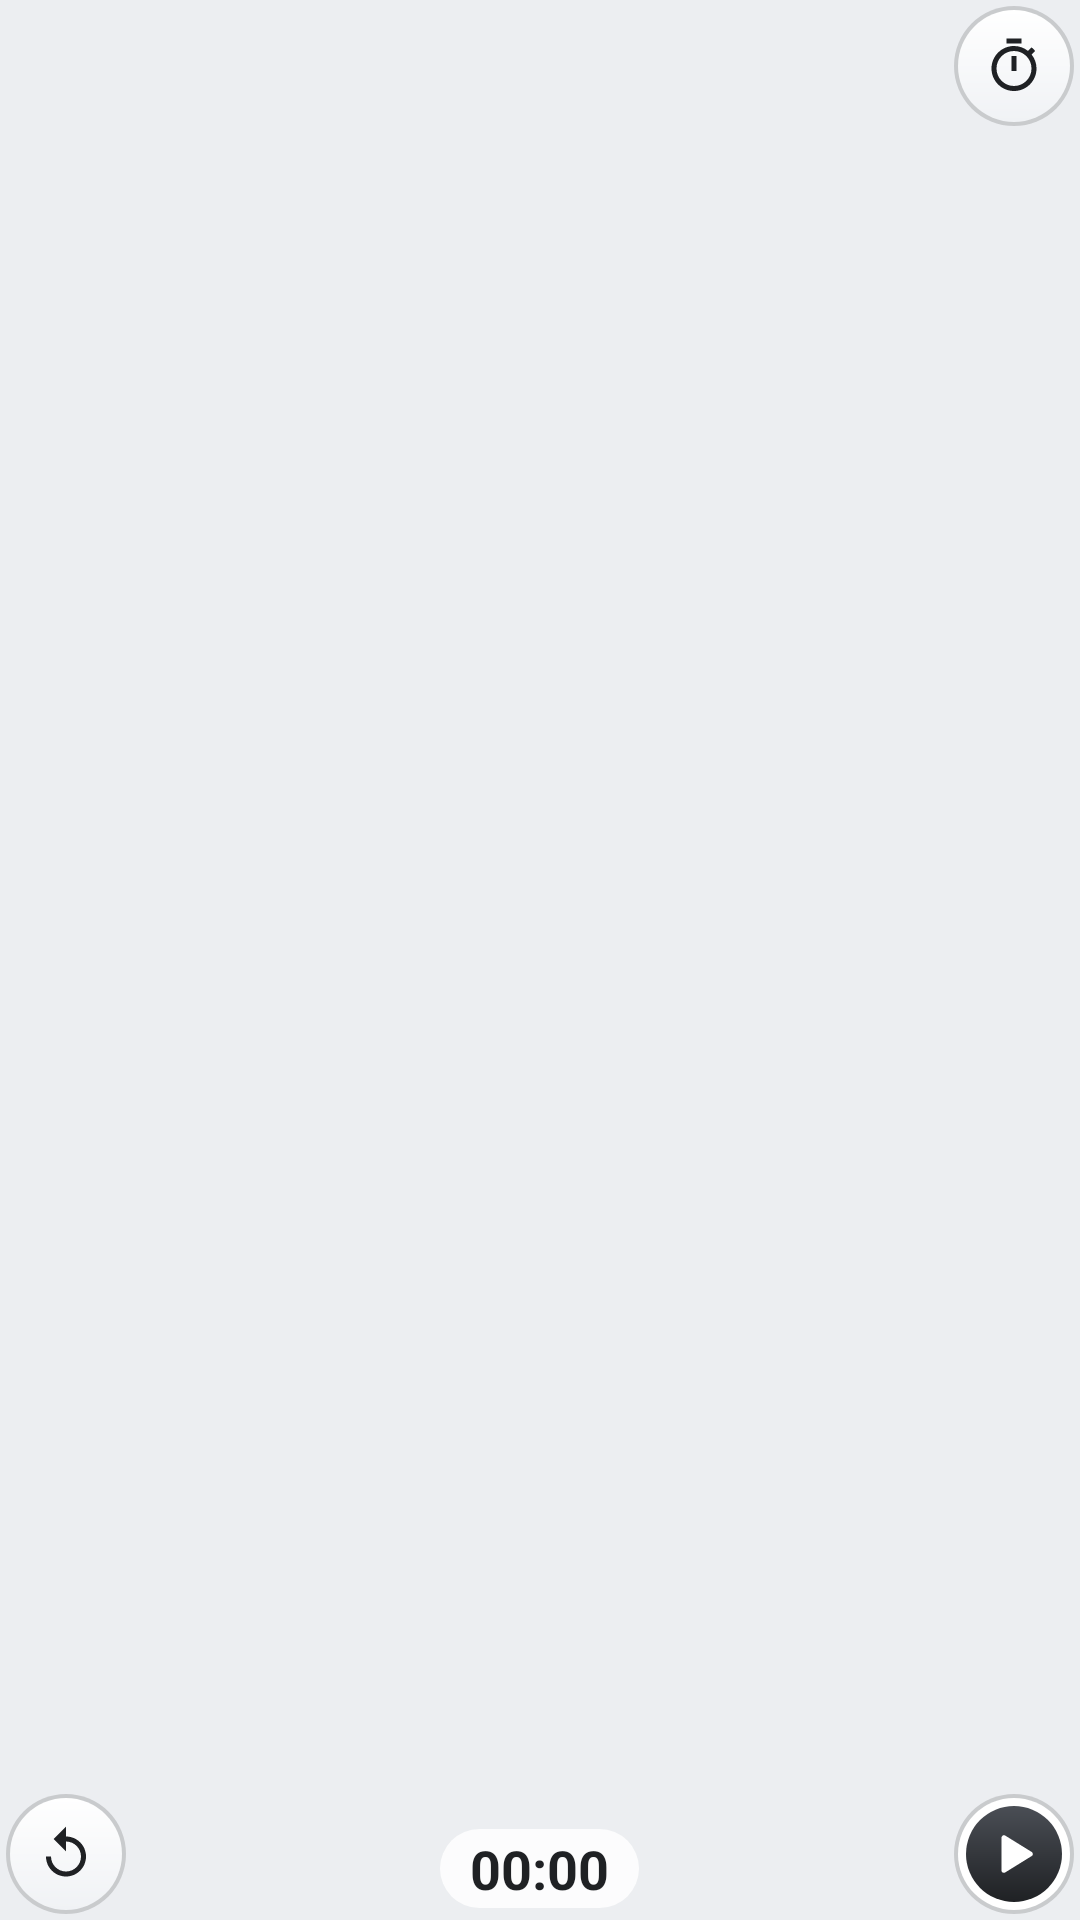

Icons on this 1080 × 1920 Android screen, each with the point to tap as (x=x, y=y):
Sanduhr starten oder anhalten: (x=1014, y=1854)
Sanduhr wählen: (x=1014, y=66)
Sanduhr zurücksetzen: (x=66, y=1854)
